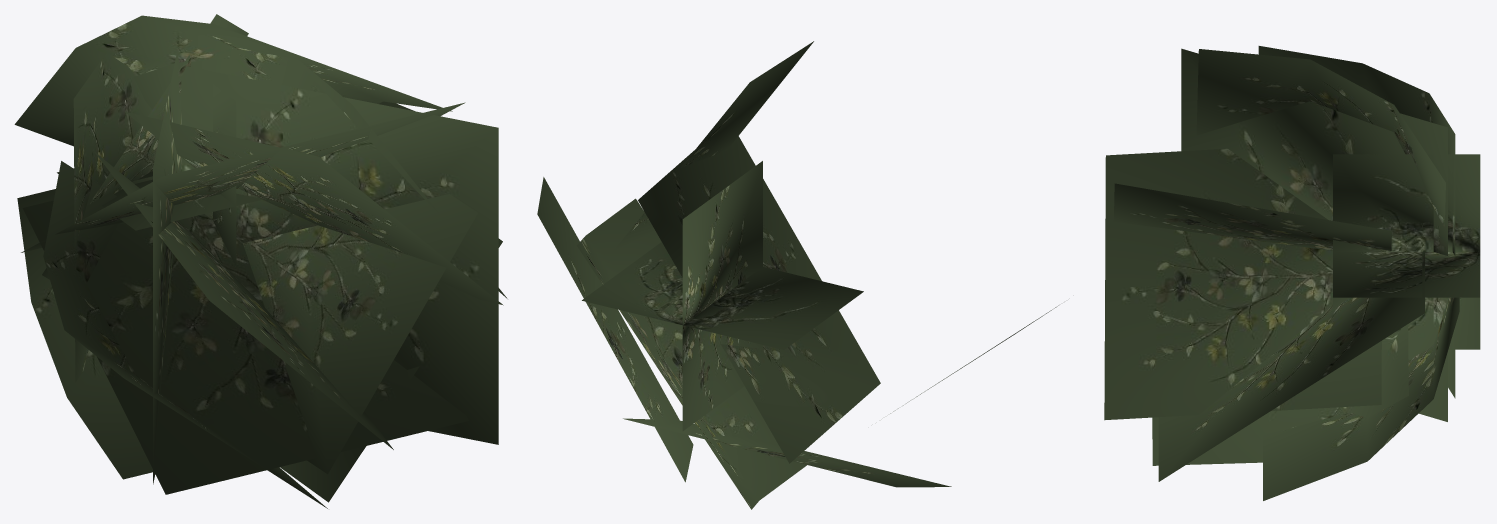
Rendered from caen_bush_full_01.glb.
The picture shows the model from 3 angles, left to right: view 1: azimuth 30°, elevation 25°; view 2: azimuth 150°, elevation 25°; view 3: azimuth 270°, elevation 25°; orthographic projection. The views are drawn at different scales.
Size of the model in its own units: 121 by 124 by 95.64.
1 material, 1 textured.
